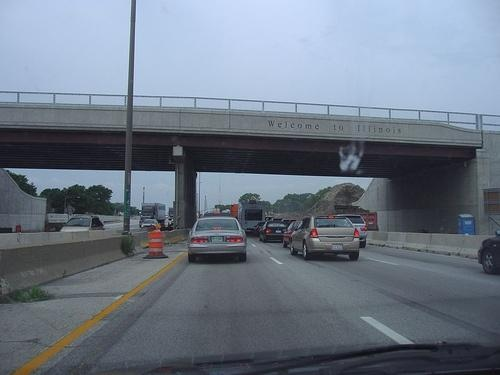car: (291, 216, 360, 262), (187, 214, 247, 262), (60, 216, 105, 234), (259, 218, 288, 243), (351, 213, 368, 245)
